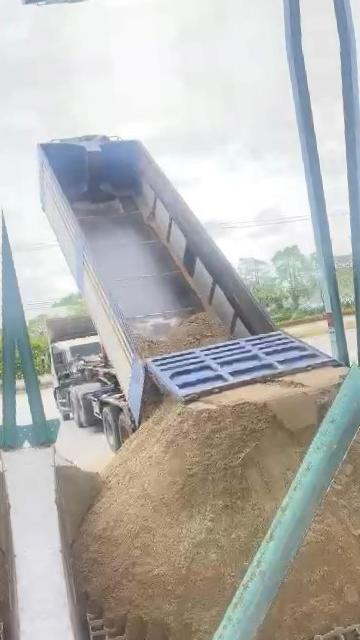sand: (73, 368, 344, 640), (257, 438, 360, 640), (135, 312, 231, 357), (56, 461, 100, 547), (143, 378, 162, 418)
